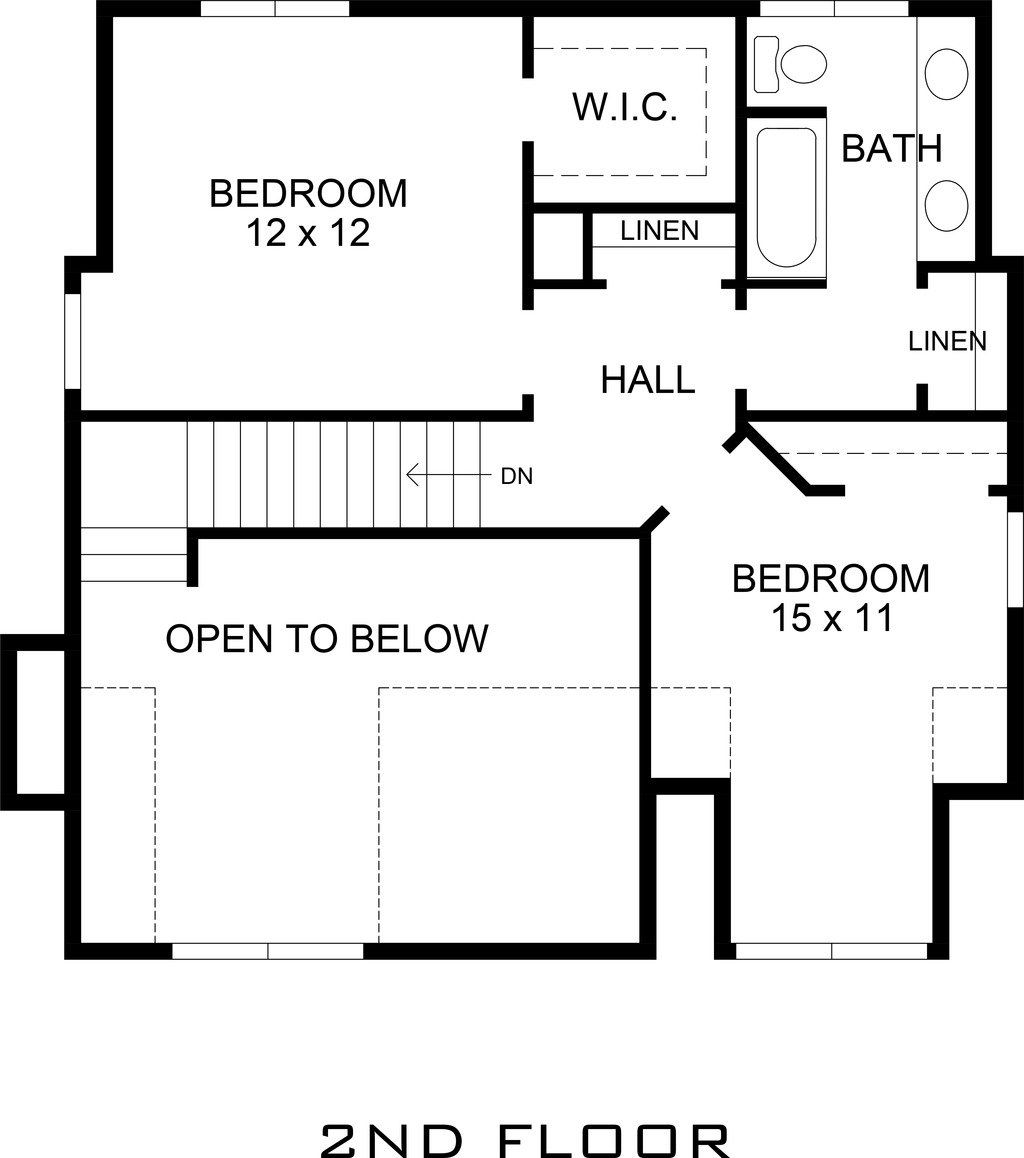large_sink: (746, 23, 849, 107)
small_sink: (909, 19, 981, 263)
stairs: (70, 414, 553, 619)
tub: (739, 107, 826, 279)
window: (722, 937, 946, 965), (167, 940, 372, 965), (200, 1, 357, 23), (758, 1, 924, 19), (60, 293, 88, 393)
